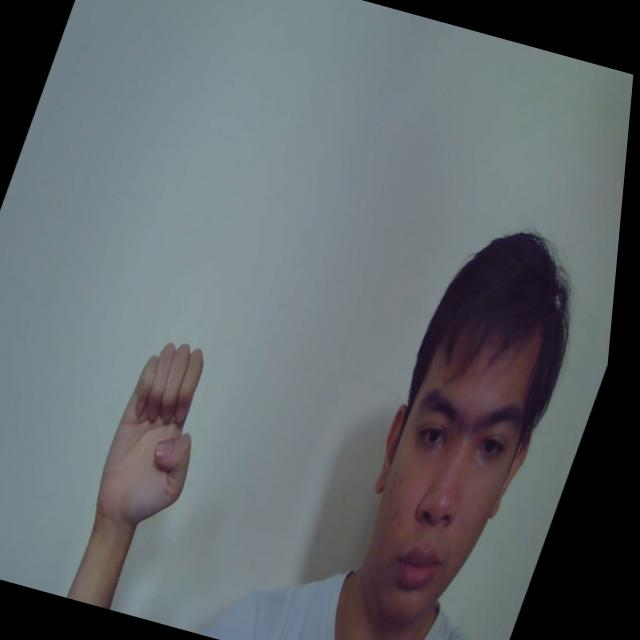E: (95, 332, 241, 537)
